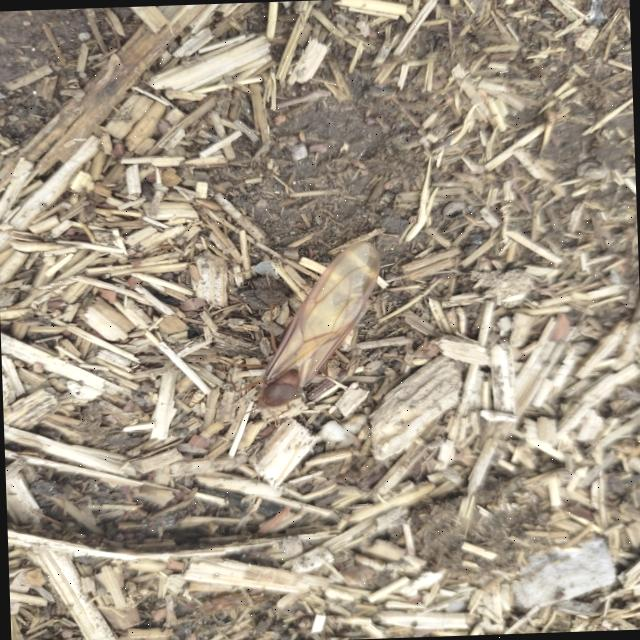Alive-Male-Alate: (194, 238, 386, 428)
